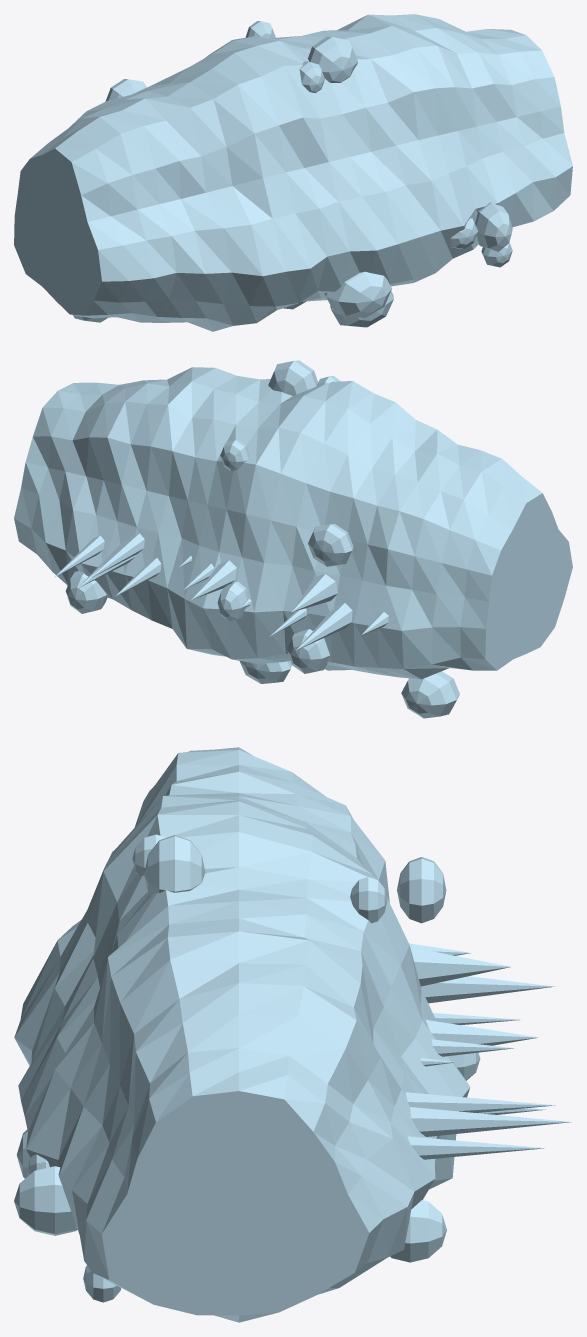
Rendered from ice_block_large.obj.
3 views of the same model, one above another, from view 1: azimuth 30°, elevation 25°; view 2: azimuth 150°, elevation 25°; view 3: azimuth 270°, elevation 25° (orthographic). The views are drawn at different scales.
Visible parts, largest first — view 1: ice_block_large; view 2: ice_block_large; view 3: ice_block_large.
Boxes of the visible parts, <box> form: ice_block_large: <box>14,14,572,331</box>; ice_block_large: <box>14,360,572,718</box>; ice_block_large: <box>14,747,571,1322</box>.
Size of the model in its own units: 1.8 by 1.08 by 1.25.
